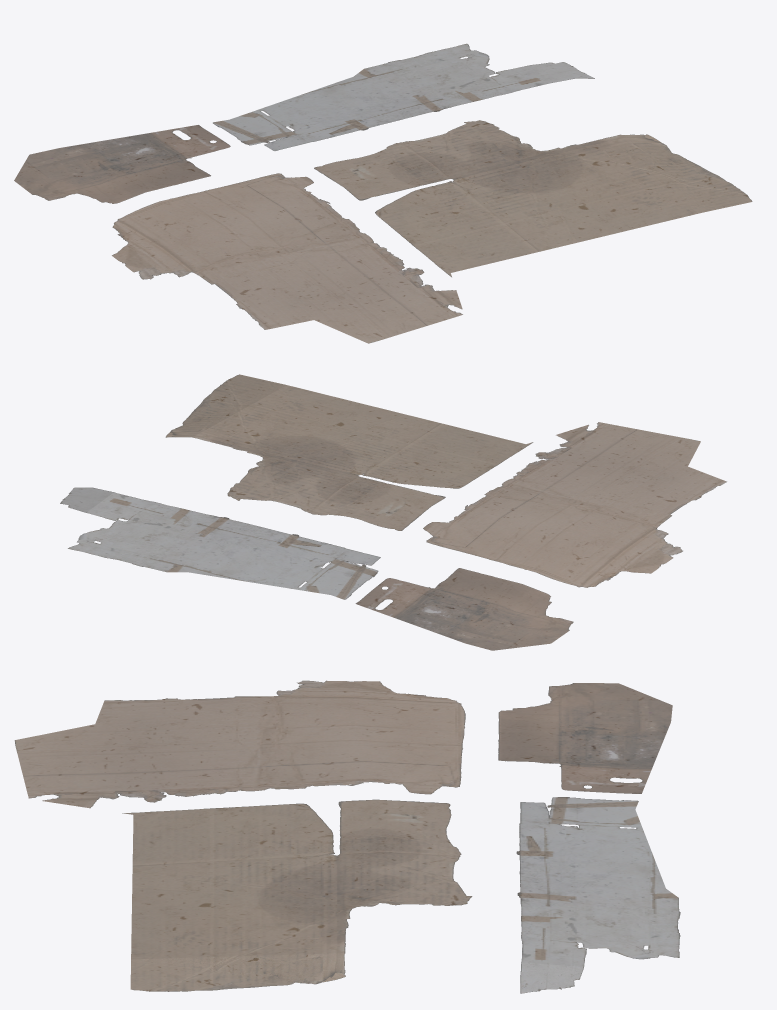
The model's file is SM_Flat_Cardboard.glb.
3 views of the same model, one above another, from view 1: azimuth 30°, elevation 25°; view 2: azimuth 150°, elevation 25°; view 3: azimuth 270°, elevation 25° (orthographic). The views are drawn at different scales.
Visible parts, largest first — view 1: SM_Flat_Cardboard; view 2: SM_Flat_Cardboard; view 3: SM_Flat_Cardboard.
Part boxes in pixels (x1,y1,x2,y2): SM_Flat_Cardboard: (14,43,752,343); SM_Flat_Cardboard: (60,374,726,650); SM_Flat_Cardboard: (14,680,680,993).
Size of the model in its own units: 0.4953 by 0.0108 by 0.4947.
Materials: 1 (1 with a texture image).
